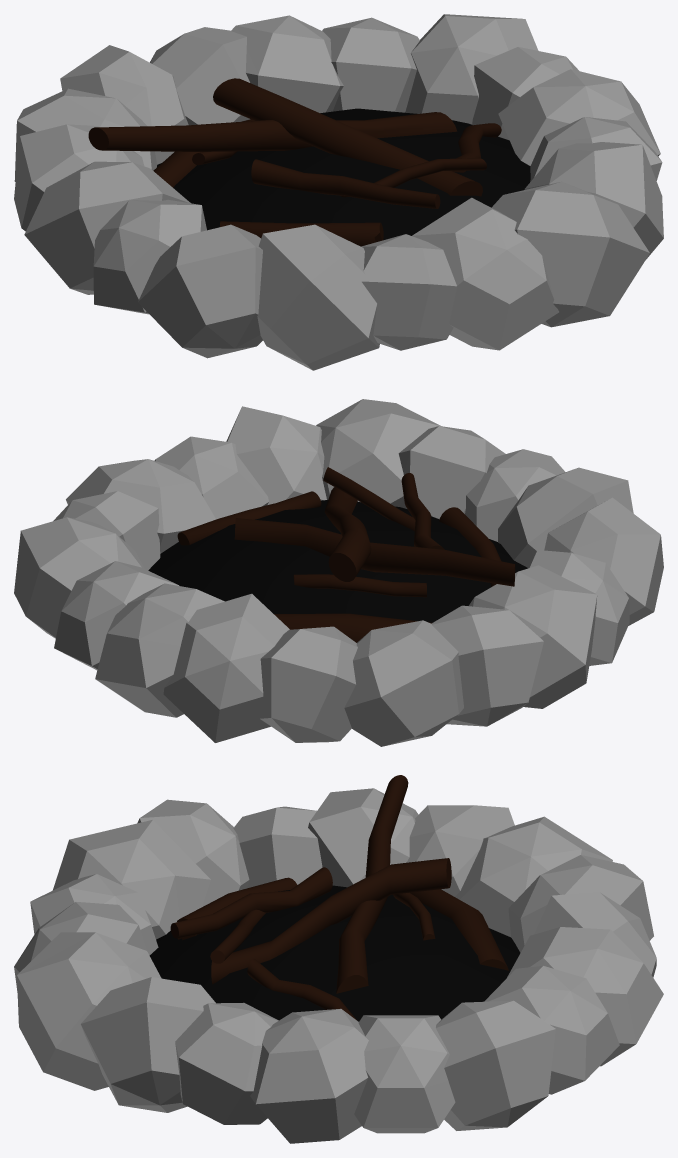
The model's file is FirePit.FBX.
The picture shows the model from 3 angles, top to bottom: view 1: azimuth 30°, elevation 25°; view 2: azimuth 150°, elevation 25°; view 3: azimuth 270°, elevation 25°; orthographic projection. The views are drawn at different scales.
Parts seen in each view (by area): view 1: Sphere013, Sphere014, Cylinder003, Cylinder001, Cylinder002; view 2: Sphere013, Sphere014, Cylinder001, Cylinder003, Cylinder002; view 3: Sphere013, Sphere014, Cylinder003, Cylinder002, Cylinder001.
Boxes of the visible parts, <box> form: Sphere013: <box>14,14,663,370</box>; Sphere014: <box>157,108,530,240</box>; Cylinder003: <box>220,123,501,246</box>; Cylinder001: <box>88,112,457,151</box>; Cylinder002: <box>213,78,482,196</box>; Sphere013: <box>14,399,663,746</box>; Sphere014: <box>148,500,527,622</box>; Cylinder001: <box>234,518,515,586</box>; Cylinder003: <box>177,467,501,586</box>; Cylinder002: <box>324,487,371,581</box>; Sphere013: <box>14,788,663,1143</box>; Sphere014: <box>149,885,520,1021</box>; Cylinder003: <box>170,867,357,1020</box>; Cylinder002: <box>211,858,451,984</box>; Cylinder001: <box>336,775,408,993</box>.
Bounding box in the file's own units: 32.57 × 8.54 × 31.73.
